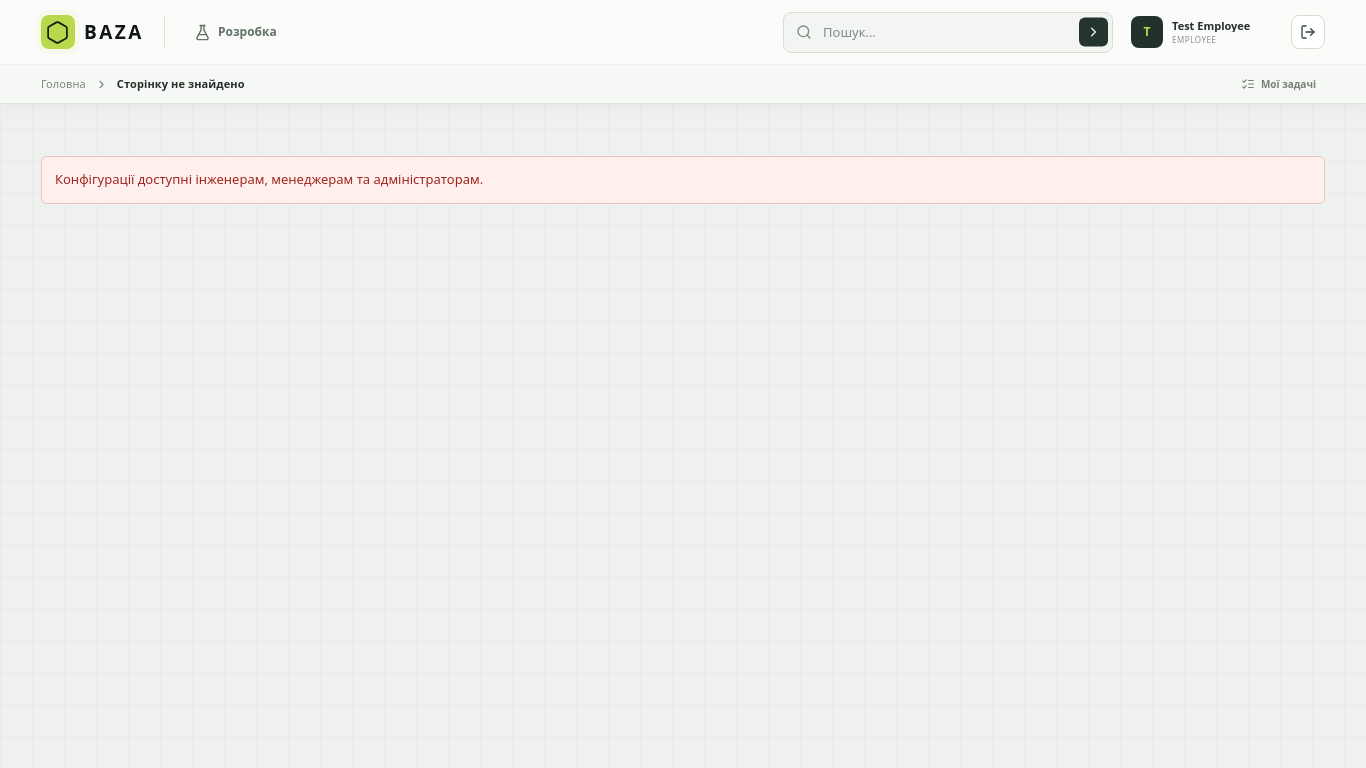
Test: authenticated shell › leaves protected content immediately after logout
What coordinates should you click on to do the following:
click the button named "Вийти"
I would click on:
 (1308, 32)
Its box is [1291,15,1325,49].
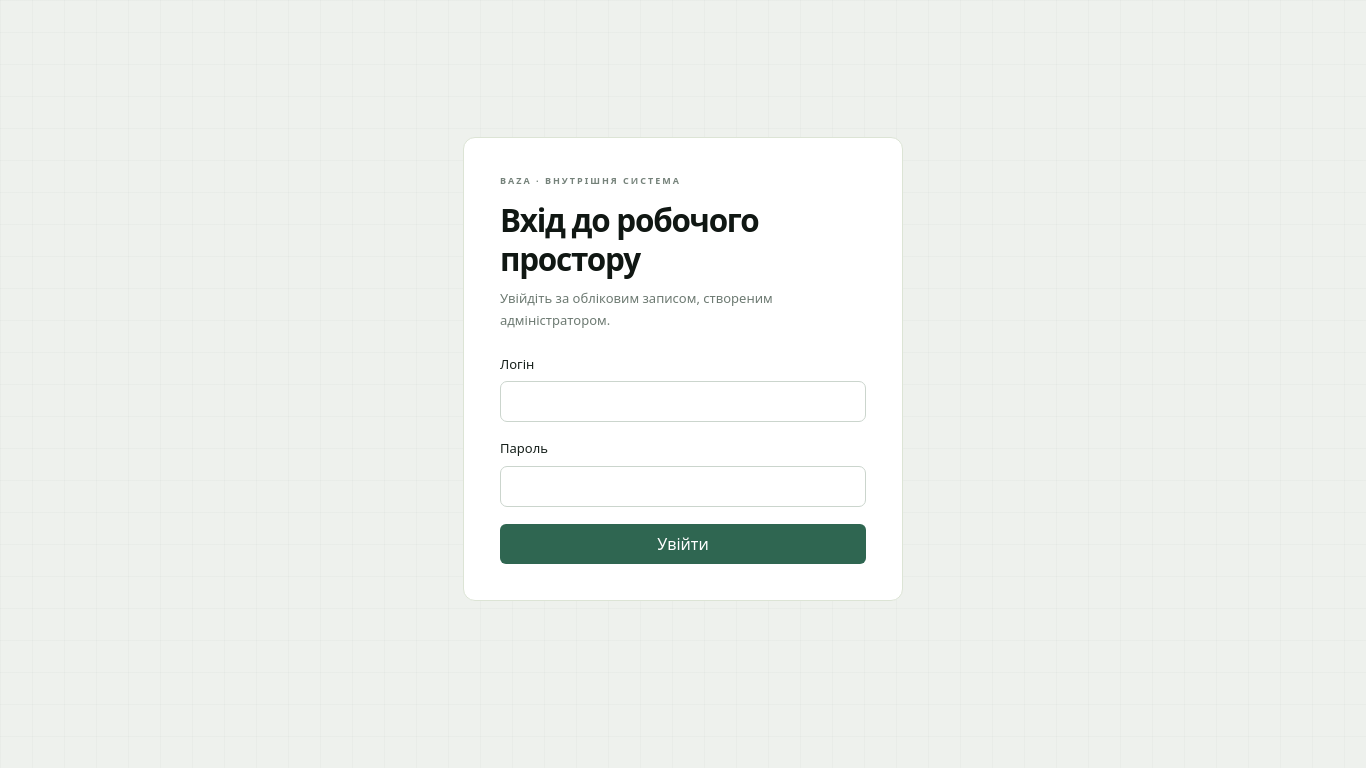
Check: the heading "Вхід до робочого простору" is shown, box [500,198,758,280]
Check: the navigation bar is gone
